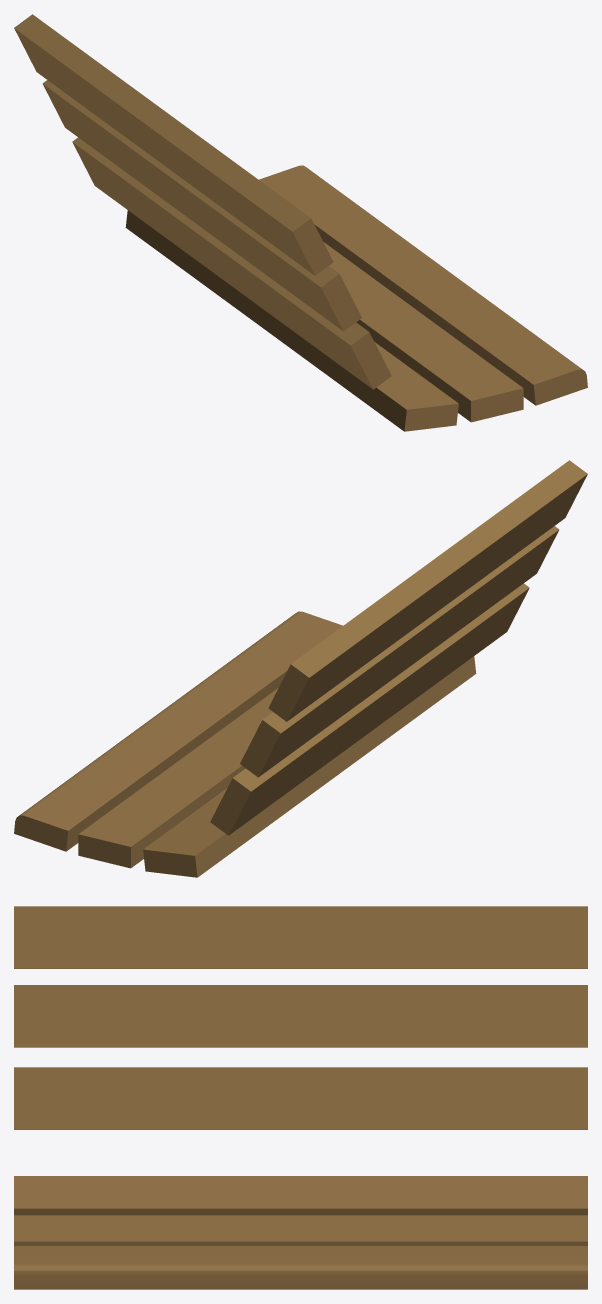
Rendered from BenchPlanks.obj.
3 views of the same model, one above another, from view 1: azimuth 30°, elevation 25°; view 2: azimuth 150°, elevation 25°; view 3: azimuth 270°, elevation 25° (orthographic). The views are drawn at different scales.
Visible parts, largest first — view 1: Bench WoodPiece5, WoodPiece0 Bench, Bench WoodPiece2, Bench WoodPiece1, Bench WoodPiece4, Bench WoodPiece3; view 2: Bench WoodPiece5, WoodPiece0 Bench, Bench WoodPiece2, Bench WoodPiece1, Bench WoodPiece4, Bench WoodPiece3; view 3: WoodPiece0 Bench, Bench WoodPiece1, Bench WoodPiece2, Bench WoodPiece5, Bench WoodPiece3, Bench WoodPiece4.
Boxes of the visible parts, box(x1,y1,x2,y2) form: Bench WoodPiece5: box(259, 165, 587, 405); WoodPiece0 Bench: box(14, 14, 333, 275); Bench WoodPiece2: box(72, 137, 391, 389); Bench WoodPiece1: box(42, 80, 361, 331); Bench WoodPiece4: box(323, 242, 523, 422); Bench WoodPiece3: box(125, 210, 458, 431); Bench WoodPiece5: box(14, 611, 342, 851); WoodPiece0 Bench: box(268, 460, 587, 721); Bench WoodPiece2: box(210, 583, 529, 835); Bench WoodPiece1: box(240, 526, 559, 777); Bench WoodPiece4: box(78, 688, 278, 868); Bench WoodPiece3: box(143, 656, 476, 877); WoodPiece0 Bench: box(14, 906, 587, 968); Bench WoodPiece1: box(14, 985, 587, 1047); Bench WoodPiece2: box(14, 1067, 587, 1129); Bench WoodPiece5: box(14, 1246, 587, 1289); Bench WoodPiece3: box(14, 1176, 587, 1215); Bench WoodPiece4: box(14, 1215, 587, 1245).
Bounding box in the file's own units: 1.7 × 1.34 × 2.79.
